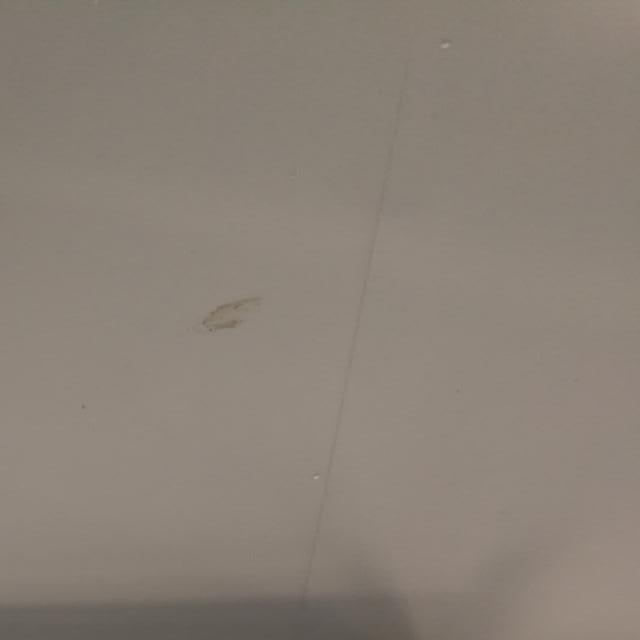fluorescent tube: (0, 626, 455, 640)
